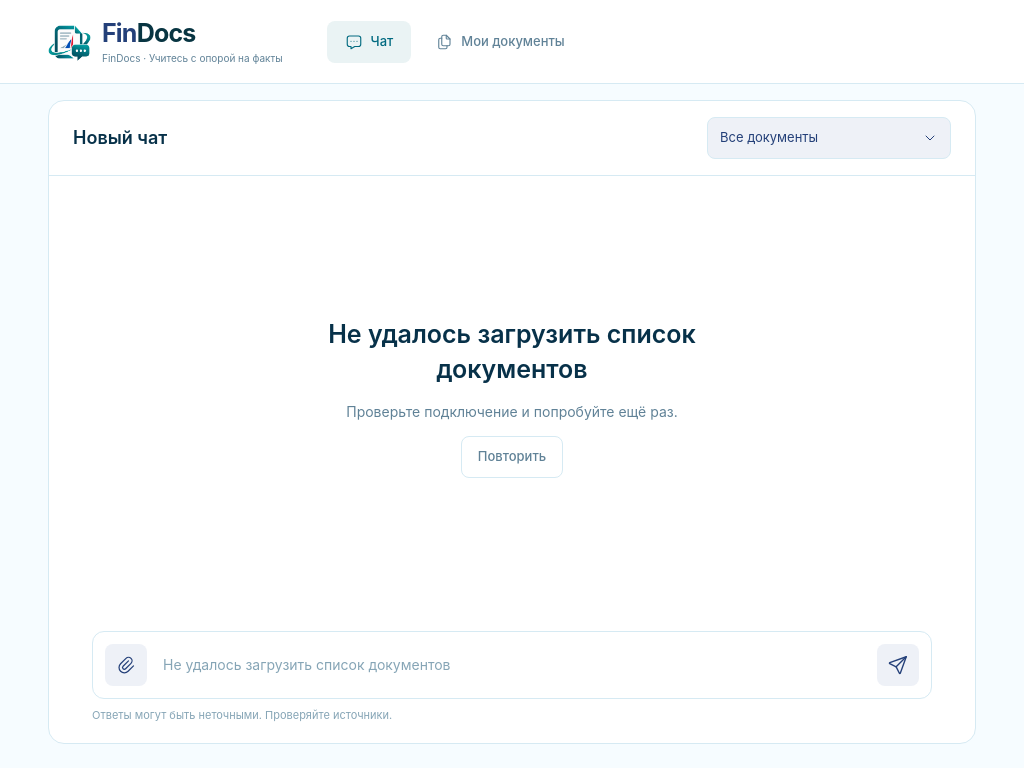
Test: Первоначальная загрузка библиотеки › повтор из документов с пустым успешным ответом показывает настоящее пустое состояние
Check: the message is shown, box [328, 319, 696, 478]
Click the button "Мои документы": {"x": 500, "y": 42} [417, 20, 583, 62]
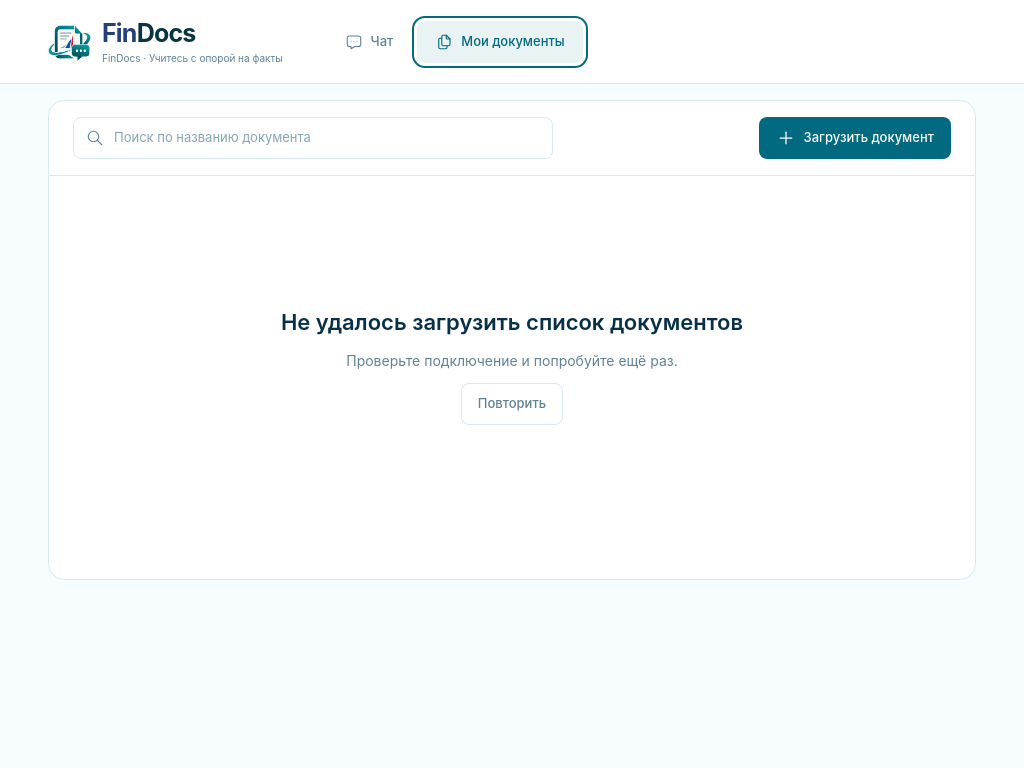
Click the button "Повторить": {"x": 512, "y": 404} [461, 383, 563, 425]
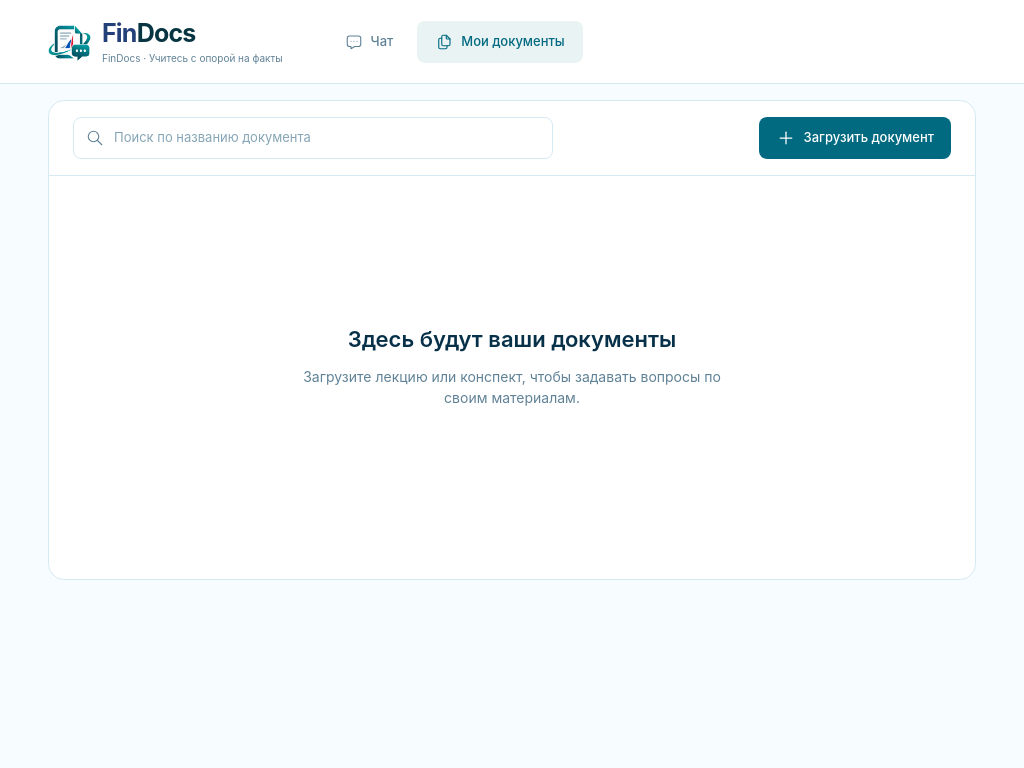
Check: the heading "Здесь будут ваши документы" is shown, box [348, 324, 676, 354]
